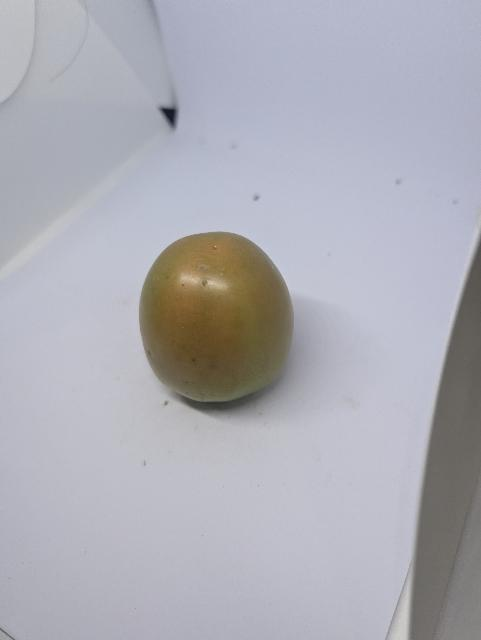turning: (127, 225, 297, 419)
